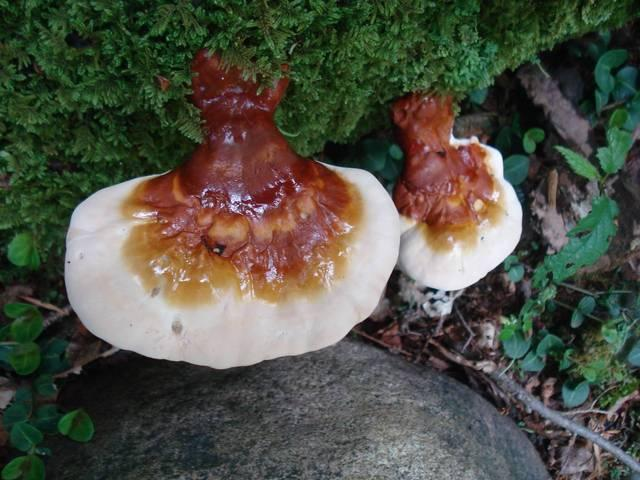Non-edible Mushroom: (62, 45, 402, 370), (388, 88, 524, 317)
